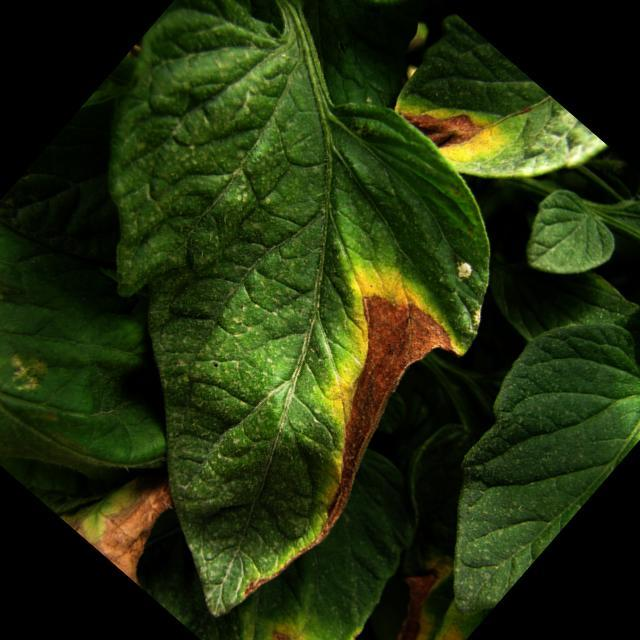Tomato bacterial spot leaf: (0, 0, 576, 640), (370, 9, 613, 242)
Tomato healthy leaf: (357, 284, 640, 636)
